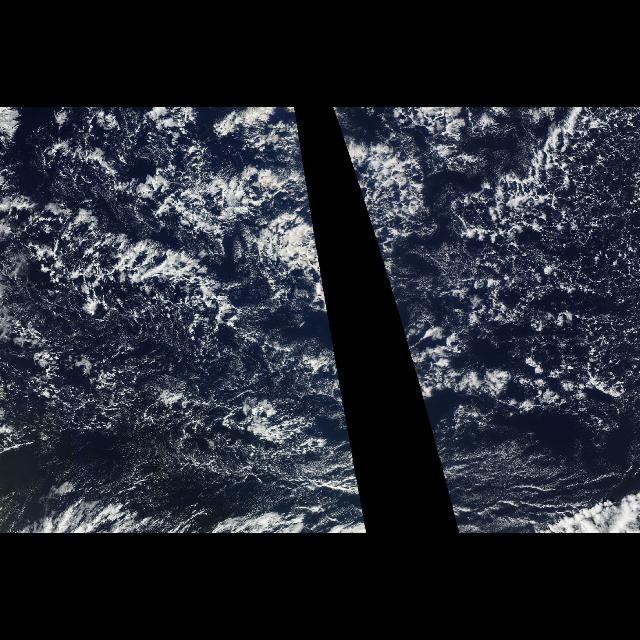Fish: (17, 144, 341, 382), (344, 144, 466, 382)
Gravel: (17, 140, 351, 438), (344, 140, 638, 438)
